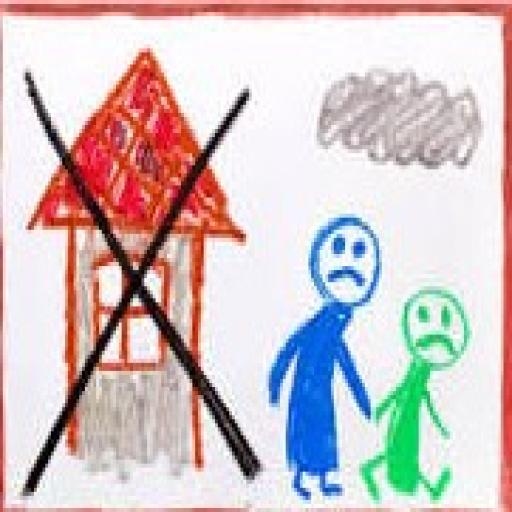person: (267, 212, 381, 508), (359, 288, 473, 502)
